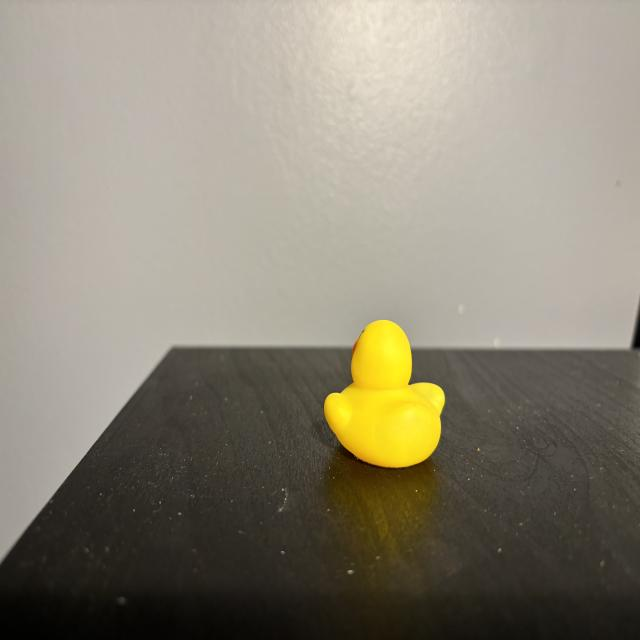duck_regular: (326, 319, 446, 471)
